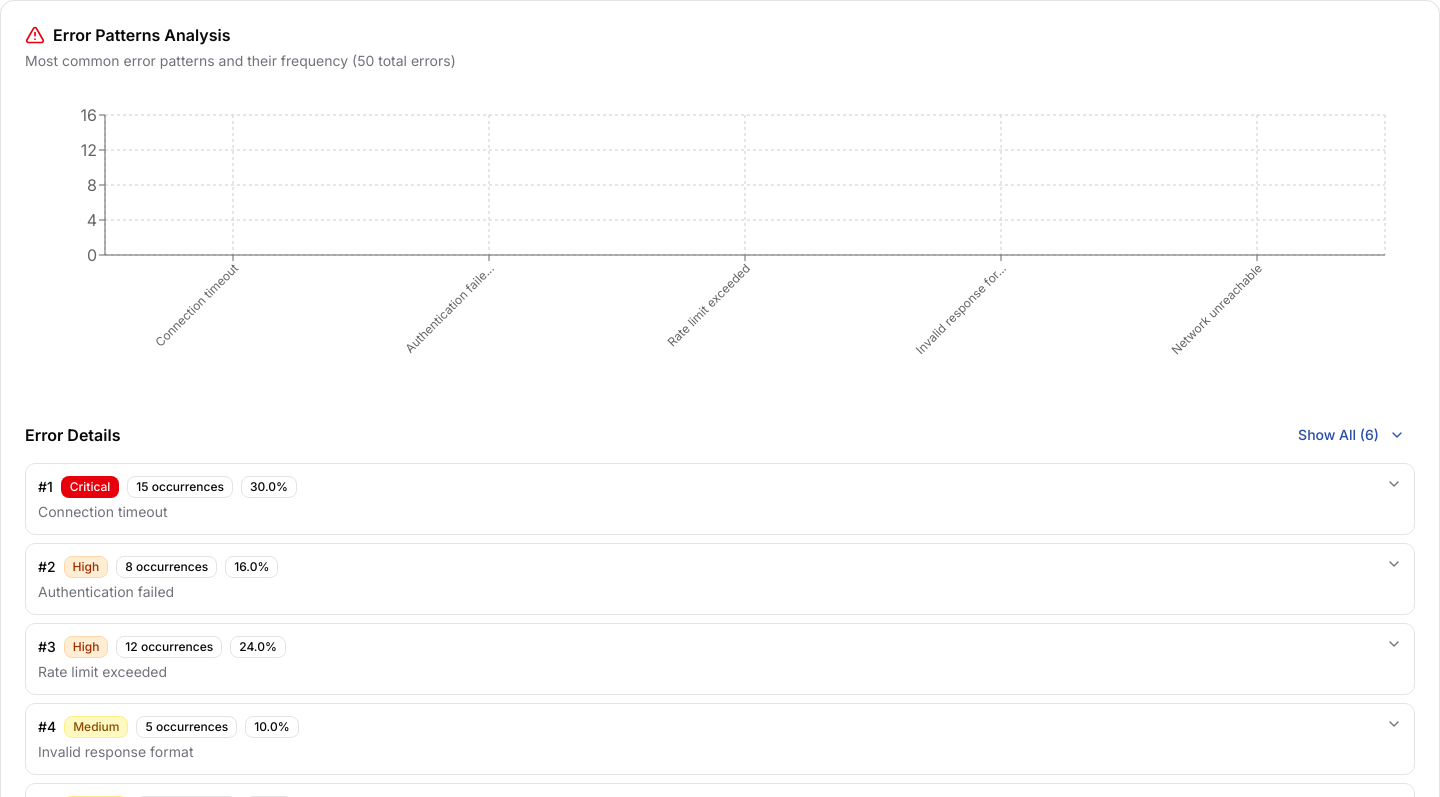
Test: ErrorPatternsChart › expands to show all errors when "Show All" is clicked
The width and height of the screenshot is (1440, 797).
Click the button "Show All (6)": (1352, 435) [1288, 419, 1415, 451]
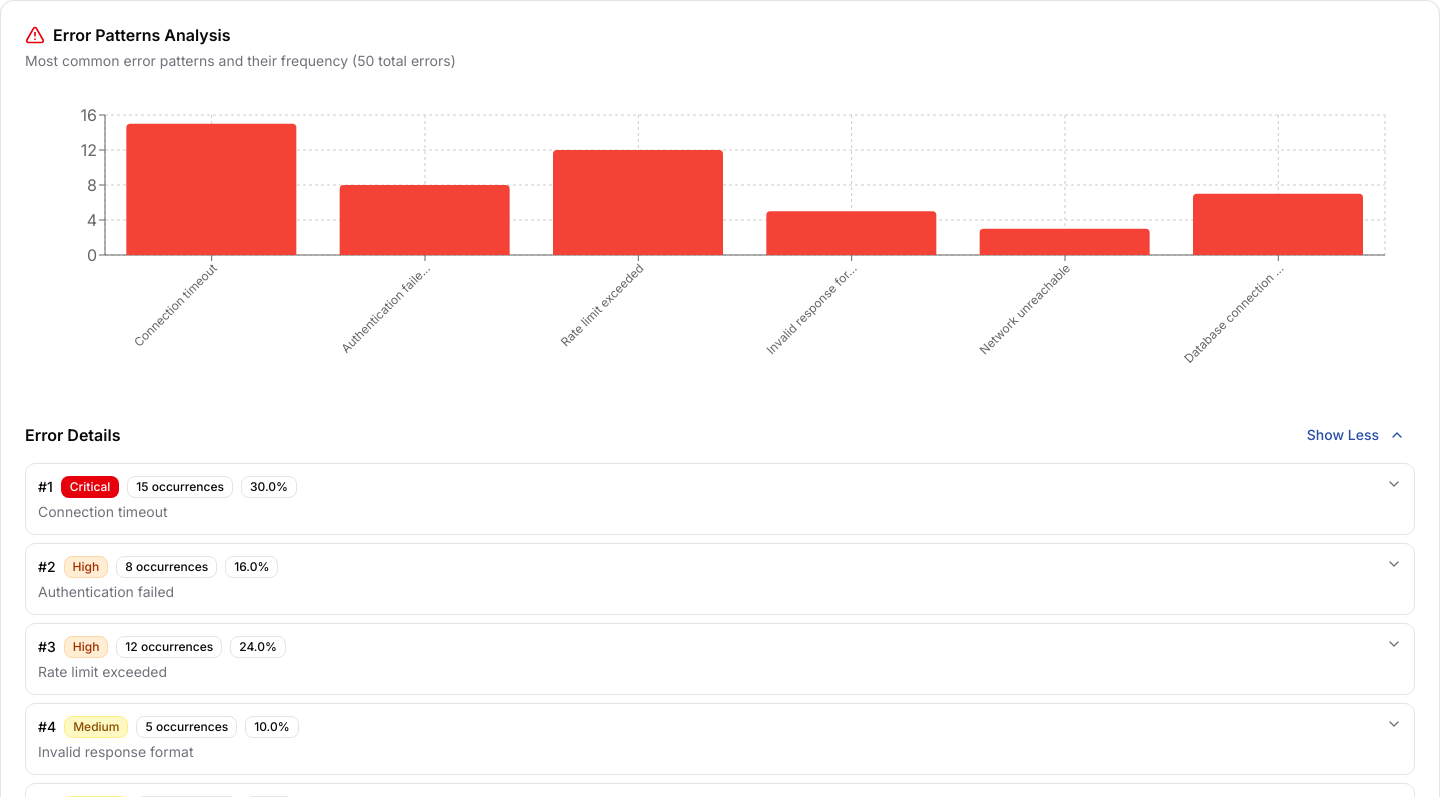
expect the button "Show Less" is shown: met, box [1297, 419, 1415, 451]
